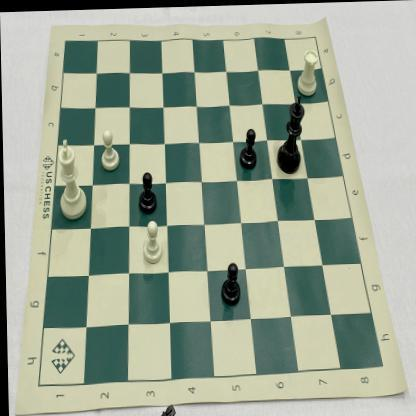black-king: (273, 97, 306, 177)
black-pawn: (216, 256, 244, 308), (135, 167, 159, 215), (236, 123, 258, 171)
white-king: (50, 132, 90, 219)
white-pawn: (138, 217, 165, 265), (96, 126, 122, 173)
white-rook: (296, 46, 321, 99)
